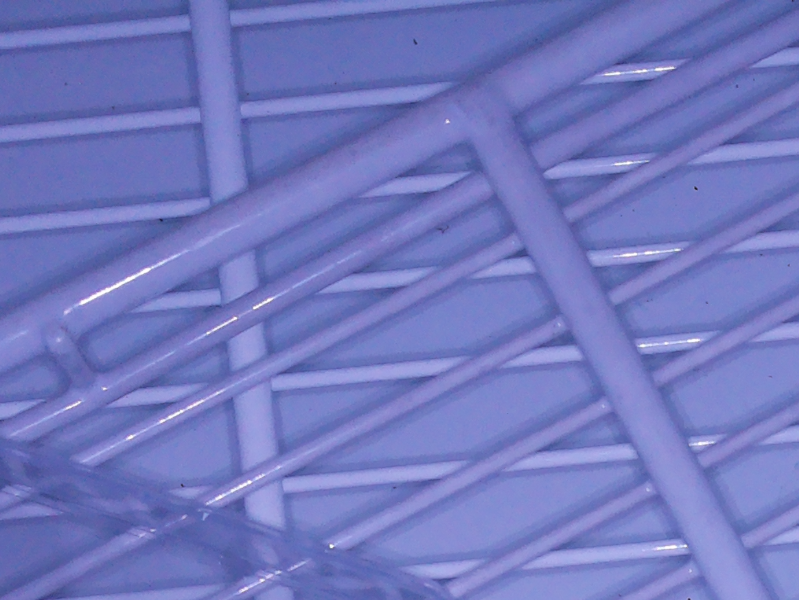plate: (1, 433, 453, 600)
